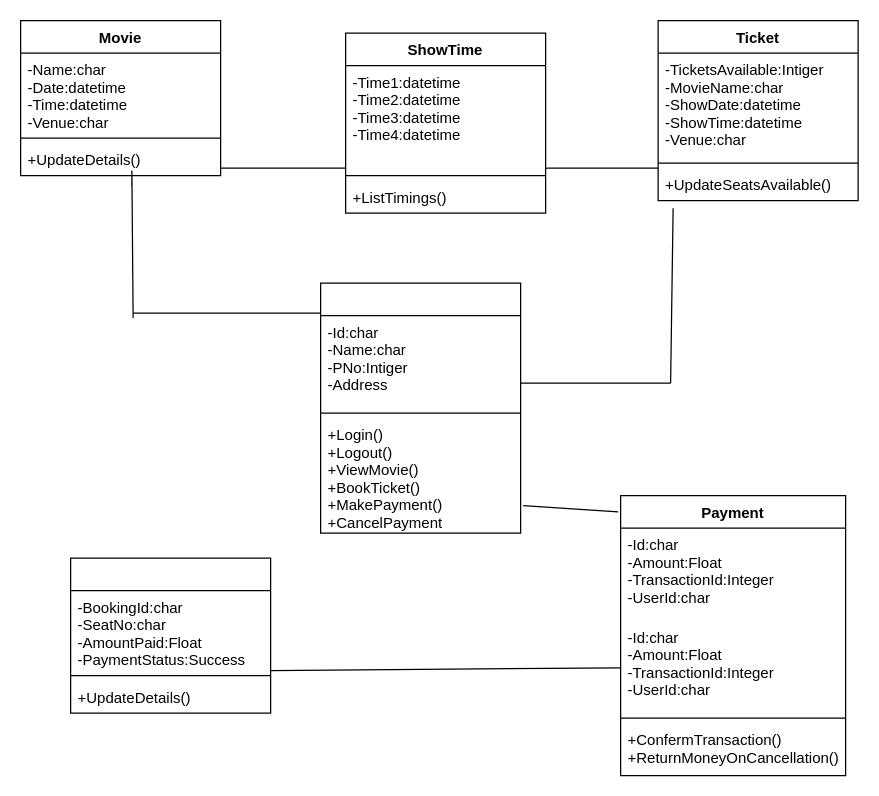
This 879x796 diagram has some shape labels left out. Here are the shapes that lost their labels. From the top down, the box of each, then its label:
(319, 282, 521, 533): User
(69, 557, 271, 713): Classname
